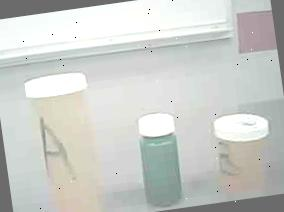Bottle A: (13, 60, 126, 212)
Bottle B: (198, 101, 284, 203)
Bottle C: (127, 105, 194, 212)
